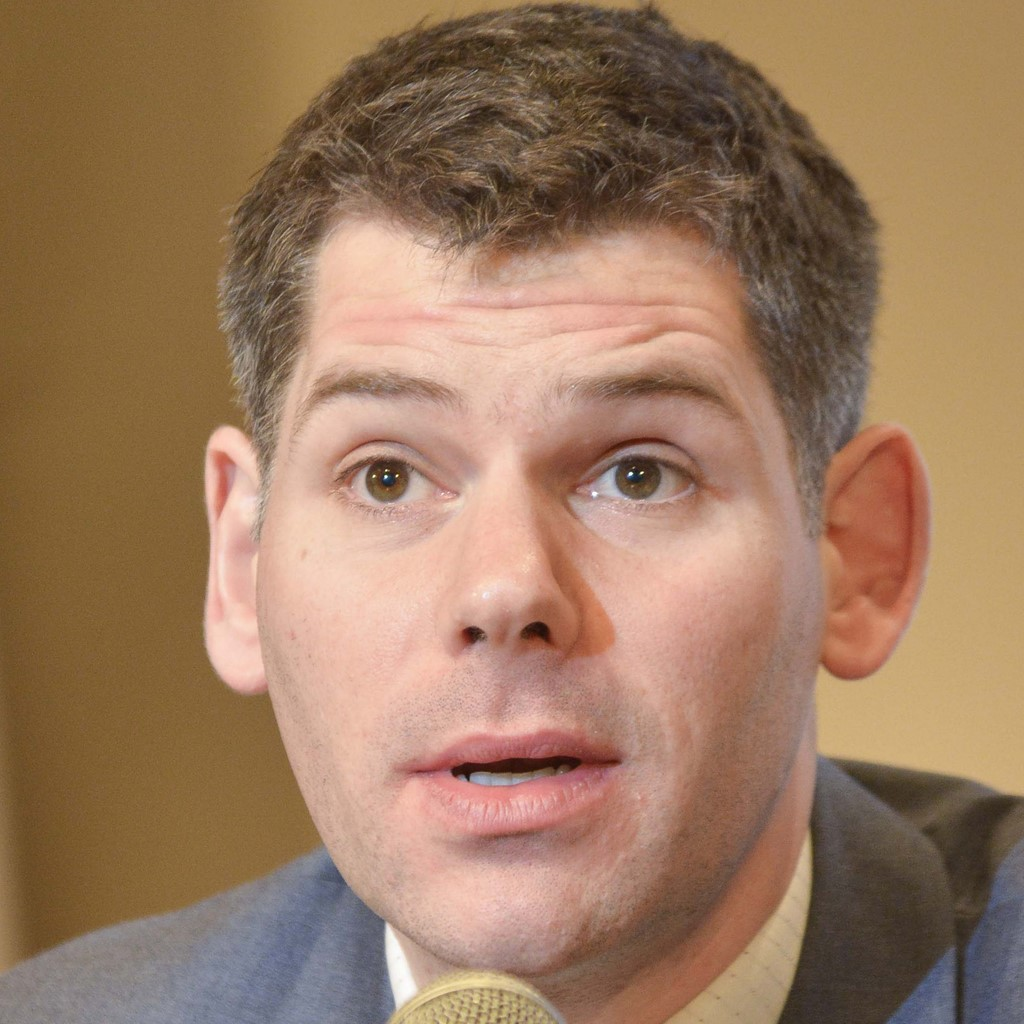sin_mascara: (245, 144, 820, 951)
